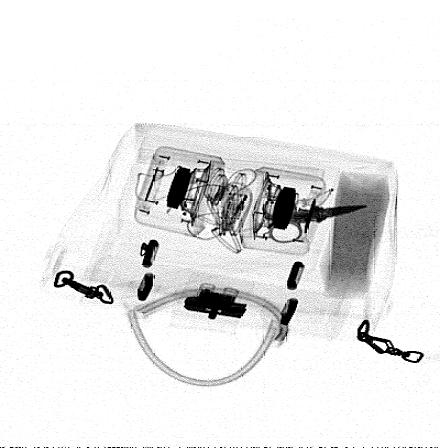Scissors: (260, 198, 371, 243)
